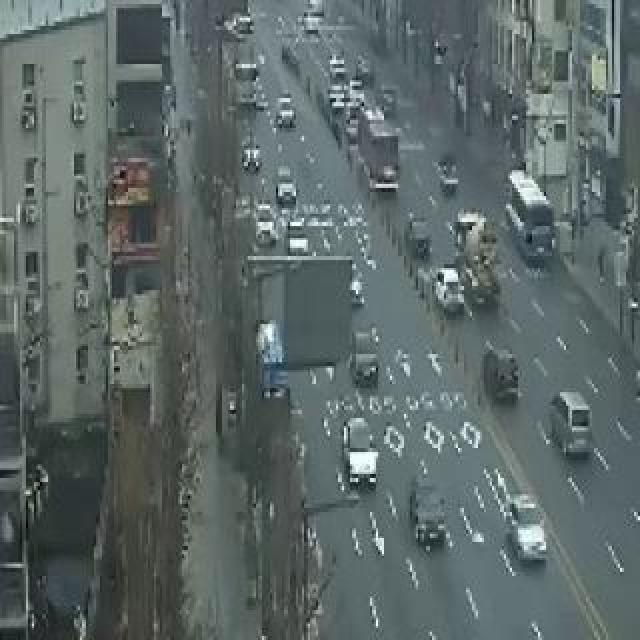truck: (357, 110, 405, 204), (459, 206, 497, 314)
